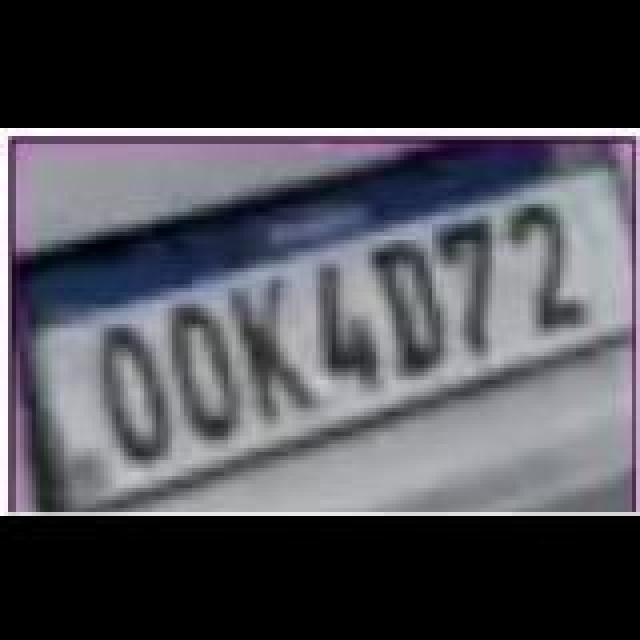2: (508, 204, 588, 332)
4: (316, 260, 388, 388)
7: (438, 216, 506, 352)
D: (372, 242, 452, 374)
K: (232, 272, 320, 416)
O: (94, 322, 178, 462), (164, 304, 244, 440)
